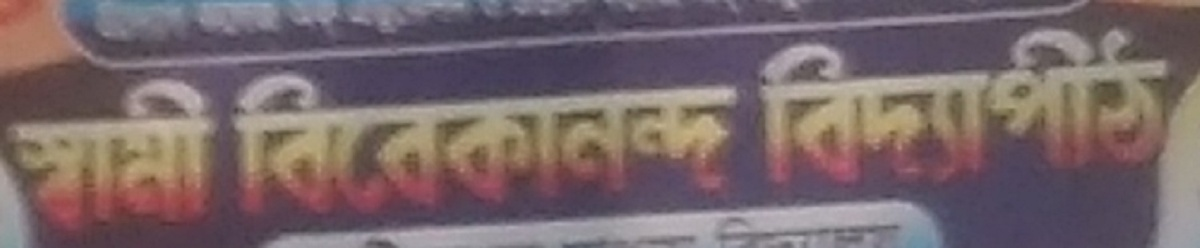text: (769, 18, 784, 188), (785, 18, 800, 188), (801, 18, 816, 188), (817, 18, 832, 188), (833, 18, 848, 188), (849, 18, 864, 188), (865, 18, 880, 188), (881, 18, 896, 188), (897, 18, 912, 188), (913, 18, 928, 188), (929, 18, 944, 188), (945, 18, 960, 188), (961, 18, 976, 188), (977, 18, 992, 188), (993, 18, 1008, 188), (1009, 18, 1024, 188), (1025, 18, 1040, 188), (1041, 18, 1056, 188), (1057, 18, 1072, 188), (1073, 18, 1088, 188), (1089, 18, 1104, 188), (1105, 18, 1120, 188), (1121, 18, 1136, 188), (1137, 18, 1152, 188), (1153, 18, 1168, 188), (241, 59, 256, 228), (257, 59, 272, 228), (273, 59, 288, 228), (289, 59, 304, 228), (305, 59, 320, 228), (321, 59, 336, 228), (337, 59, 352, 228), (353, 59, 368, 228), (369, 59, 384, 228), (385, 59, 400, 228), (401, 59, 416, 228), (417, 59, 432, 228), (433, 59, 448, 228), (449, 59, 464, 228), (465, 59, 480, 228), (481, 59, 496, 228), (497, 59, 512, 228), (513, 59, 528, 228), (529, 59, 544, 228), (545, 59, 560, 228), (561, 59, 576, 228), (577, 59, 592, 228), (593, 59, 608, 228), (609, 59, 624, 228), (625, 59, 640, 228), (641, 59, 656, 228), (657, 59, 672, 228), (673, 59, 688, 228), (689, 59, 704, 228), (705, 59, 720, 228), (721, 59, 736, 228), (17, 79, 32, 237), (33, 79, 48, 237), (49, 79, 64, 237), (65, 79, 80, 237), (81, 79, 96, 237), (97, 79, 112, 237), (113, 79, 128, 237), (129, 79, 144, 237), (145, 79, 160, 237), (161, 79, 176, 237), (177, 79, 192, 237), (193, 79, 208, 237), (228, 59, 240, 228), (5, 79, 16, 237), (1169, 18, 1177, 188), (209, 79, 217, 237), (762, 18, 768, 188), (737, 59, 742, 228), (97, 1, 112, 45), (113, 1, 128, 45), (129, 1, 144, 45), (145, 1, 160, 45), (161, 1, 176, 45), (177, 1, 192, 45), (193, 1, 208, 45), (209, 1, 224, 45), (225, 1, 240, 45), (241, 1, 256, 45), (257, 1, 272, 45), (273, 1, 288, 45), (289, 1, 304, 45), (305, 1, 320, 45), (321, 1, 336, 45), (337, 1, 352, 45), (353, 1, 368, 45), (369, 1, 384, 45), (385, 1, 400, 45), (401, 1, 416, 45), (417, 1, 432, 45), (433, 1, 448, 45), (449, 1, 464, 45), (465, 1, 480, 45), (481, 1, 496, 45), (497, 1, 512, 45), (513, 1, 528, 45), (529, 1, 544, 45), (545, 1, 560, 45), (561, 1, 576, 45), (577, 1, 592, 45), (593, 1, 608, 45), (609, 1, 624, 45), (625, 1, 640, 45), (641, 1, 656, 45), (657, 1, 672, 45), (673, 1, 688, 45), (689, 1, 704, 45), (705, 1, 720, 45), (721, 1, 736, 45), (737, 1, 752, 45), (753, 1, 768, 45), (769, 1, 784, 45), (785, 1, 800, 45), (801, 1, 816, 45), (817, 1, 832, 45), (385, 215, 400, 247), (401, 215, 416, 247), (417, 215, 432, 247), (433, 215, 448, 247), (449, 215, 464, 247), (465, 215, 480, 247), (481, 215, 496, 247), (497, 215, 512, 247), (513, 215, 528, 247), (529, 215, 544, 247), (545, 215, 560, 247), (561, 215, 576, 247), (577, 215, 592, 247), (593, 215, 608, 247), (609, 215, 624, 247), (625, 215, 640, 247), (641, 215, 656, 247), (657, 215, 672, 247), (673, 215, 688, 247), (689, 215, 704, 247), (705, 215, 720, 247), (721, 215, 736, 247), (737, 215, 752, 247), (753, 215, 768, 247), (769, 215, 784, 247), (785, 215, 800, 247), (801, 215, 816, 247), (817, 215, 832, 247), (833, 215, 848, 247), (849, 215, 864, 247), (865, 215, 880, 247), (881, 215, 896, 247), (375, 215, 384, 247), (833, 1, 838, 45), (897, 215, 901, 247), (94, 1, 96, 45)
